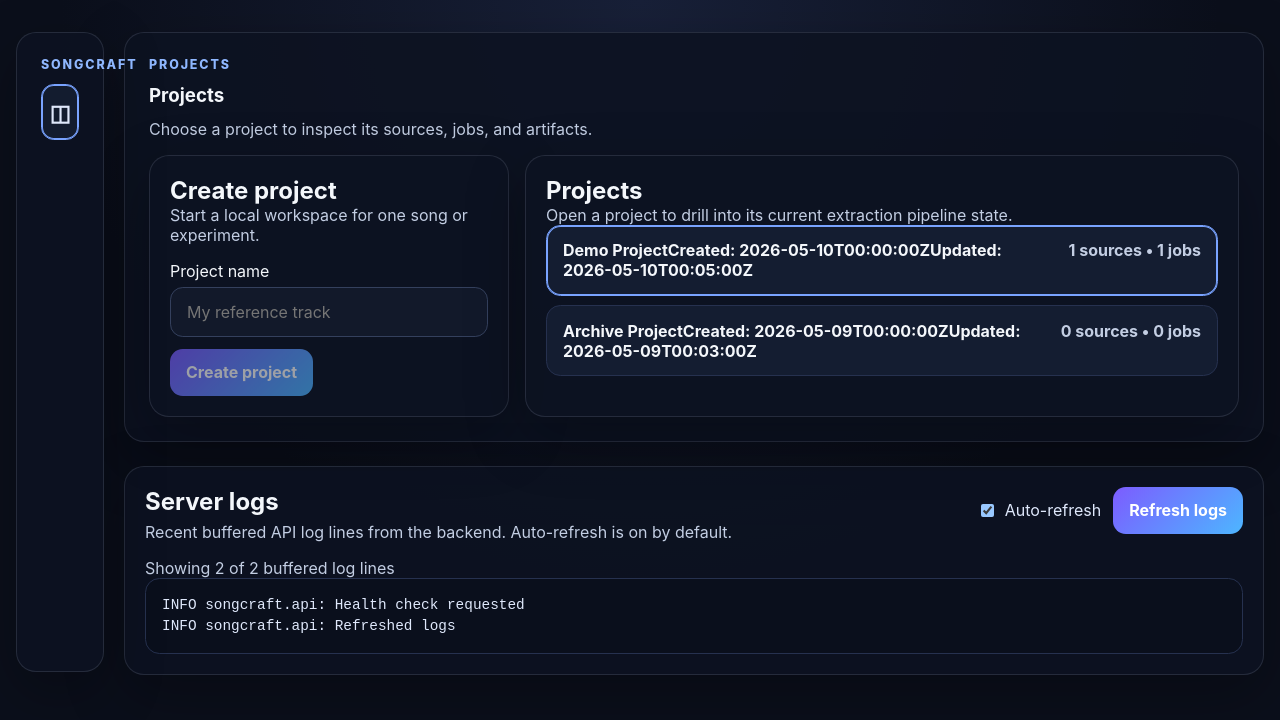
it: App › renders a server log viewer and refreshes log entries on demand
This screenshot has width=1280, height=720.
Expected: the heading "Server logs" is shown, [145,487,279,516]
Expected: the text named "Recent server log lines" shows "INFO songcraft.api: Health check requested", [162,597,525,634]
Step 1. Click the button "Refresh logs" → click(1178, 510), box [1113,487,1243,534]
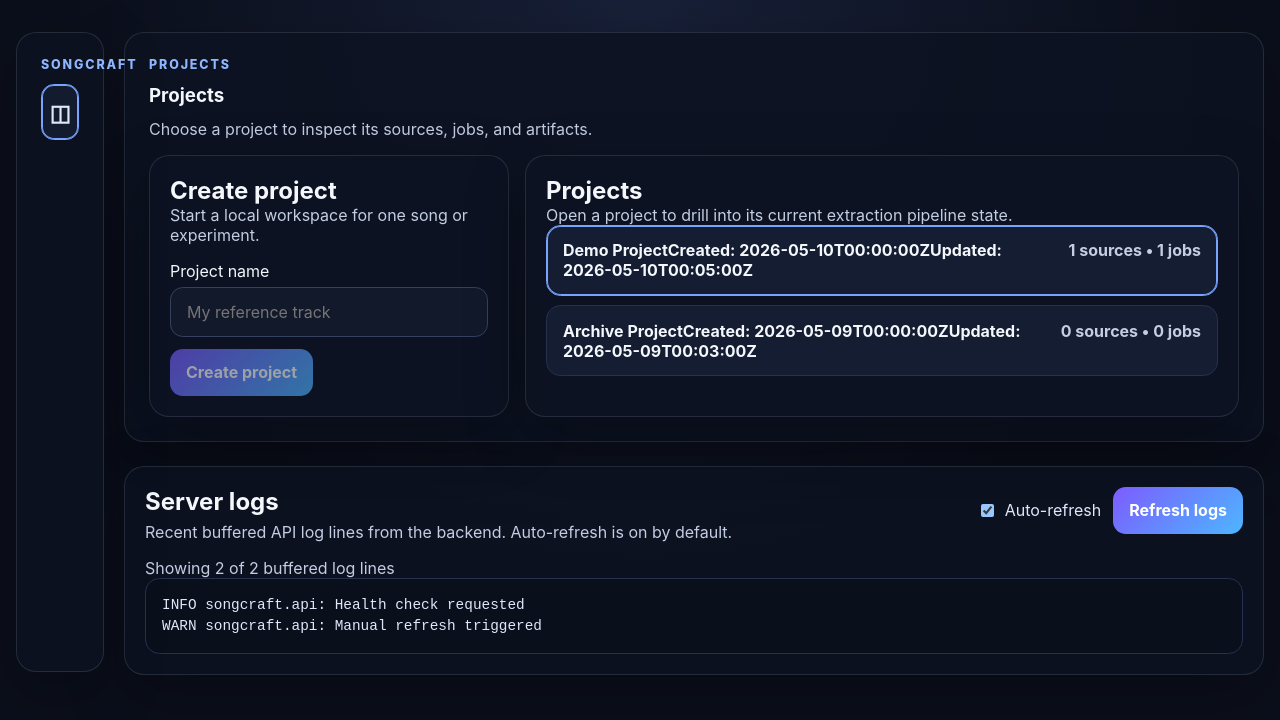
Now the text named "Recent server log lines" shows "WARN songcraft.api: Manual refresh triggered", box [162,597,542,634]
